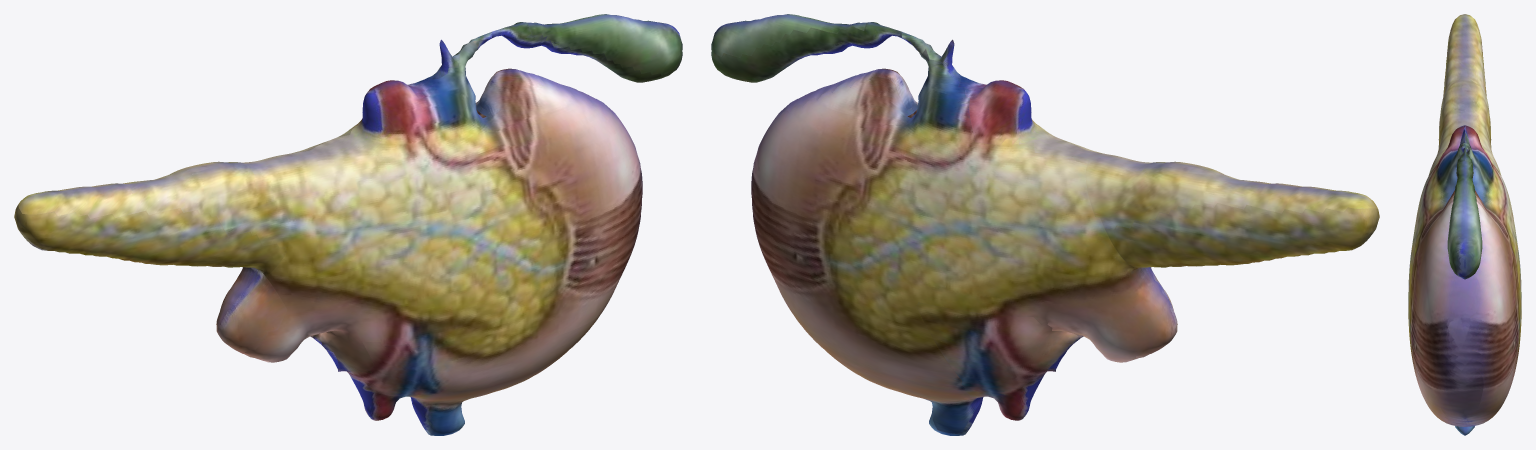
The model's file is pancreas.glb.
The picture shows the model from 3 angles, left to right: view 1: azimuth 30°, elevation 25°; view 2: azimuth 150°, elevation 25°; view 3: azimuth 270°, elevation 25°; orthographic projection. The views are drawn at different scales.
Visible parts, largest first — view 1: root_Material_94_0; view 2: root_Material_94_0; view 3: root_Material_94_0.
Part boxes in pixels (<box>): root_Material_94_0: <box>14,14,682,435</box>; root_Material_94_0: <box>711,14,1379,435</box>; root_Material_94_0: <box>1408,14,1521,435</box>.
Bounding box in the file's own units: 0.6 × 0.3417 × 0.1153.
1 material, 1 textured.
